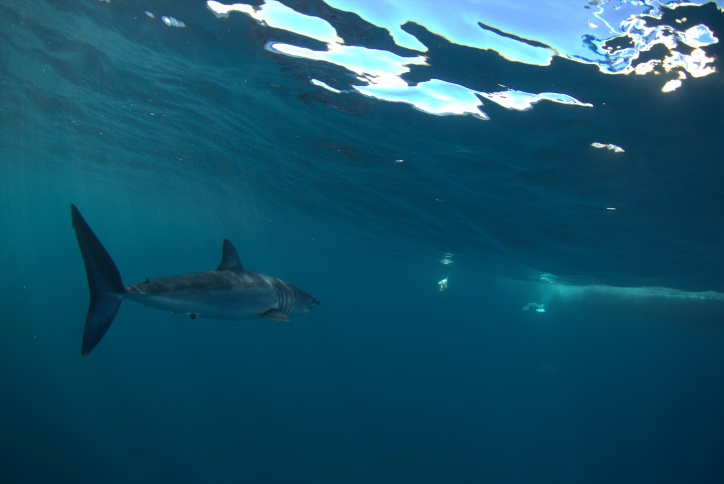Mako: (61, 192, 336, 364)
